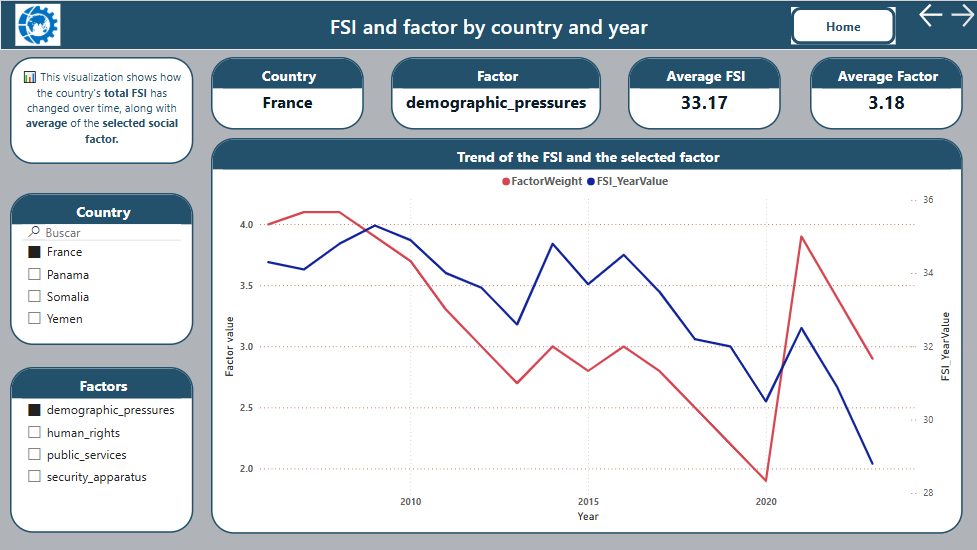

The page's visual inventory and layout, read from the dashboard file:
{"tool":"powerbi","page":{"name":"FSI and factor by country and year","canvas":[1280,720],"ordinal":3},"visuals":[{"type":"card","title":"Average FSI","fields":{"Values":["Z_Table_Measures.Average_FSI"]},"box":[822.2,74,200,95],"z":0},{"type":"lineChart","title":"Trend of the FSI and the selected factor","fields":{"Category":["FRAGILITY_INDEX.year"],"Y":["Z_Table_Measures.FactorWeight"],"Y2":["Z_Table_Measures.FSI_YearValue"]},"box":[276.5,180,983.5,518.4],"z":1000},{"type":"slicer","title":"Factors","fields":{"Values":["Selected_Factors.factor_name"]},"box":[13,481,240.5,217.4],"z":2000},{"type":"card","title":"Country","fields":{"Values":["Min(SelectedCountries.country)"]},"box":[276.5,74,200,95],"z":3000},{"type":"textbox","title":"FSI por País y Año","box":[13,74,240.5,139.7],"z":4000},{"type":"card","title":"Factor","fields":{"Values":["Min(Selected_Factors.factor_name)"]},"box":[511.2,74,275,95],"z":5000},{"type":"card","title":"Average Factor","fields":{"Values":["Z_Table_Measures.FactorWeight"]},"box":[1059.8,74,200.2,95],"z":6000},{"type":"slicer","title":"Country","fields":{"Values":["SelectedCountries.country"]},"box":[13,252,240.5,198.7],"z":7000},{"type":"shape","box":[0,0,1280,65.5],"z":8000},{"type":"image","box":[13.4,0,72.9,65.5],"z":9000},{"type":"actionButton","box":[1239.6,0,40.4,40.4],"z":10000},{"type":"actionButton","box":[1199.2,0,40.4,40.4],"z":11000},{"type":"actionButton","title":"Portada","box":[1035.4,8.6,136.8,49],"z":12000}]}

Visuals, with their boxes in screenshot pixels (x1, y1, x2, y2), scaled from the page's 1280x720 canvas onto the 977x550 screenshot:
"Average FSI" card: [x1=628, y1=57, x2=780, y2=129]
"Trend of the FSI and the selected factor" lineChart: [x1=211, y1=138, x2=962, y2=534]
"Factors" slicer: [x1=10, y1=367, x2=193, y2=534]
"Country" card: [x1=211, y1=57, x2=364, y2=129]
"FSI por País y Año" textbox: [x1=10, y1=57, x2=193, y2=163]
"Factor" card: [x1=390, y1=57, x2=600, y2=129]
"Average Factor" card: [x1=809, y1=57, x2=962, y2=129]
"Country" slicer: [x1=10, y1=192, x2=193, y2=344]
shape: [x1=0, y1=0, x2=976, y2=50]
image: [x1=10, y1=0, x2=66, y2=50]
actionButton: [x1=946, y1=0, x2=976, y2=31]
actionButton: [x1=915, y1=0, x2=946, y2=31]
"Portada" actionButton: [x1=790, y1=7, x2=895, y2=44]
